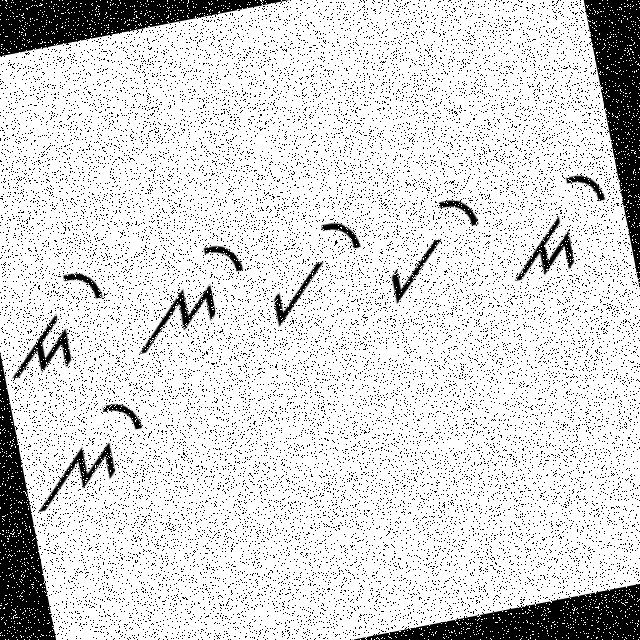day: (488, 150, 622, 288), (0, 248, 121, 388)
nay: (118, 225, 260, 368), (22, 386, 161, 516)
pay: (255, 205, 384, 344), (374, 181, 496, 316)
